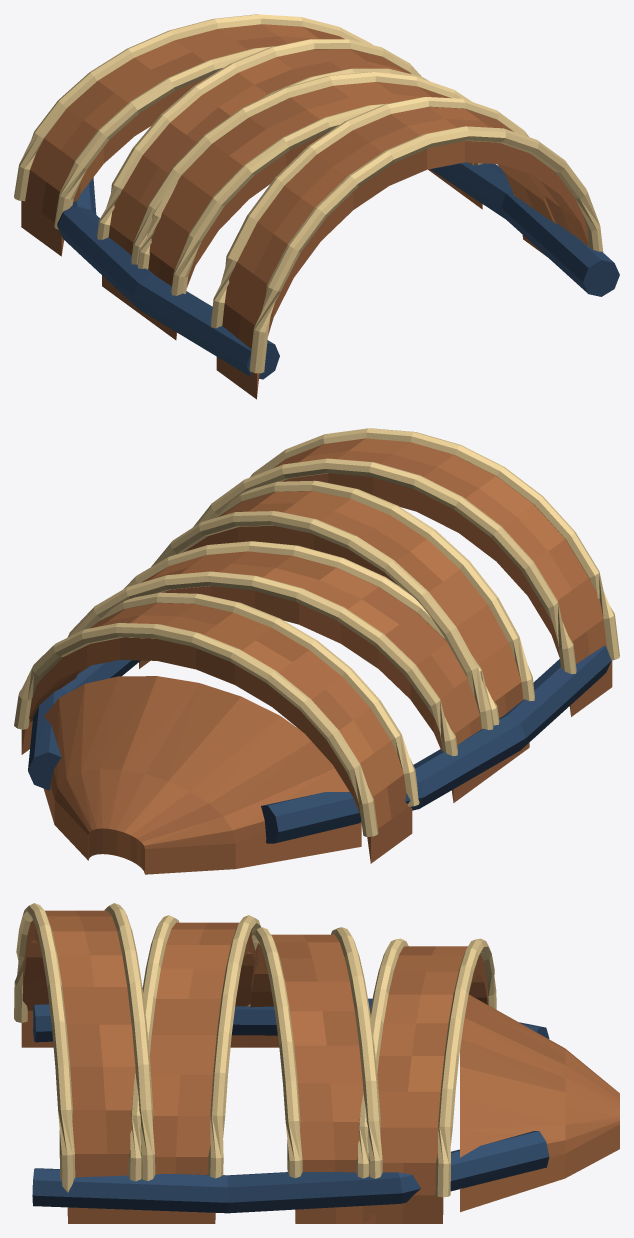
Rendered from ES_08_Basket_Strap_Vamp.fbx.
The picture shows the model from 3 angles, top to bottom: view 1: azimuth 30°, elevation 25°; view 2: azimuth 150°, elevation 25°; view 3: azimuth 270°, elevation 25°; orthographic projection. The views are drawn at different scales.
Visible parts, largest first — view 1: ES_08_Basket_Strap_Vamp; view 2: ES_08_Basket_Strap_Vamp; view 3: ES_08_Basket_Strap_Vamp.
Part boxes in pixels (bbox=[...]): ES_08_Basket_Strap_Vamp: bbox=[14, 14, 619, 399]; ES_08_Basket_Strap_Vamp: bbox=[14, 428, 619, 874]; ES_08_Basket_Strap_Vamp: bbox=[14, 903, 619, 1223].
Size of the model in its own units: 1.1 by 0.553 by 1.44.
3 materials, 3 textured.
